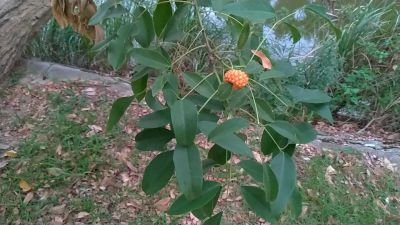eggs: (224, 66, 245, 87)
